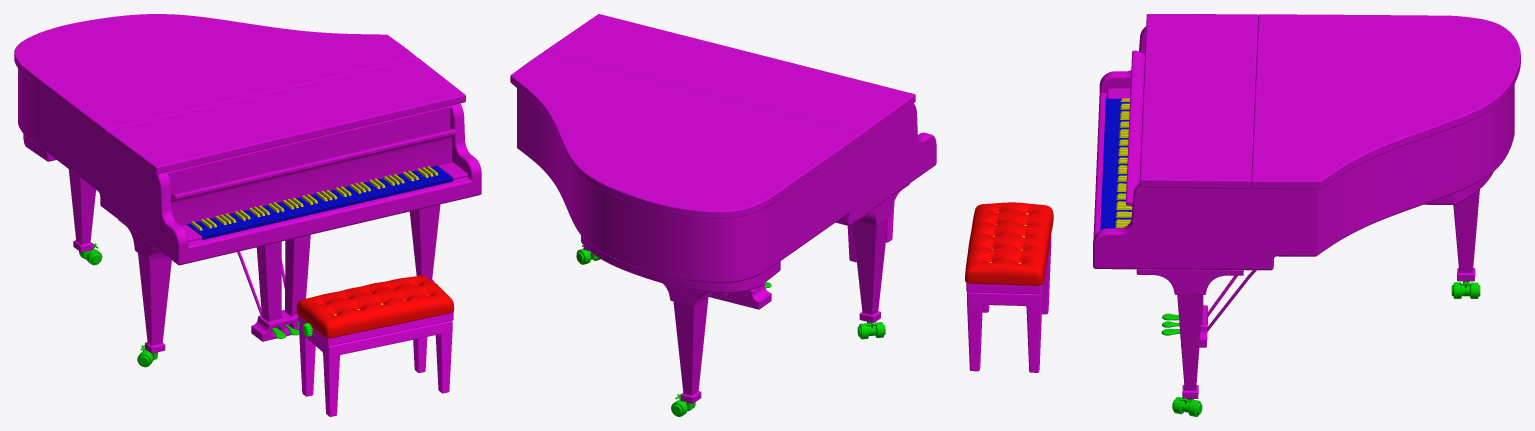
File: Piano.fbx
3 renders of one model, left to right at view 1: azimuth 30°, elevation 25°; view 2: azimuth 150°, elevation 25°; view 3: azimuth 270°, elevation 25°, orthographic. The views are drawn at different scales.
Parts seen in each view (by area): view 1: Piano, Bench; view 2: Piano, Bench; view 3: Piano, Bench.
Part boxes in pixels (box(x1,y1,x2,y2)): Piano: box(14, 14, 481, 367); Bench: box(296, 275, 454, 416); Piano: box(510, 14, 936, 416); Bench: box(847, 202, 894, 262); Piano: box(1093, 14, 1520, 416); Bench: box(965, 202, 1053, 372).
Bounding box in the file's own units: 154 × 104 × 216.
